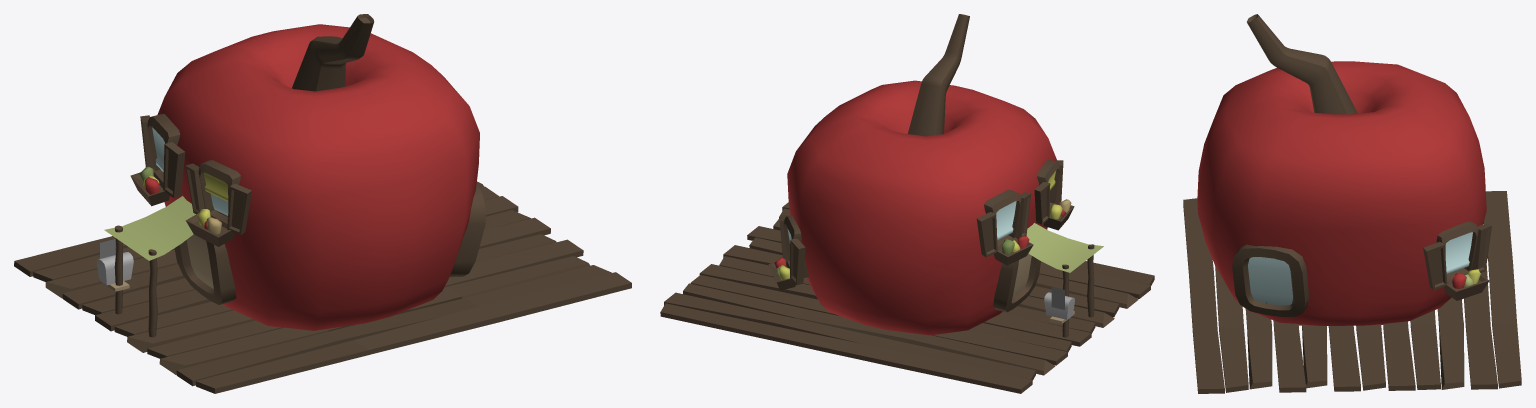
The model's file is Apple_House.fbx.
3 views of the same model, side by side, from view 1: azimuth 30°, elevation 25°; view 2: azimuth 150°, elevation 25°; view 3: azimuth 270°, elevation 25° (orthographic). The views are drawn at different scales.
Visible parts, largest first — view 1: polySurface416, apple_house_ground, polySurface417, polySurface447, polySurface418, polySurface463, polySurface435, polySurface421, polySurface437, polySurface419, polySurface424, polySurface439 (+4 smaller); view 2: polySurface416, apple_house_ground, polySurface417, polySurface447, polySurface418, polySurface422, polySurface419, polySurface461, polySurface438, polySurface420, polySurface435, polySurface424 (+4 smaller); view 3: polySurface416, apple_house_ground, polySurface463, polySurface417, polySurface462, polySurface460, polySurface459, polySurface461, polySurface451.
Boxes of the visible parts, box(x1,y1,x2,y2) form: polySurface416: box(157, 24, 479, 330); apple_house_ground: box(14, 181, 631, 393); polySurface417: box(292, 14, 374, 91); polySurface447: box(104, 196, 195, 260); polySurface418: box(174, 234, 236, 304); polySurface463: box(449, 182, 485, 277); polySurface435: box(198, 160, 240, 221); polySurface421: box(163, 142, 185, 197); polySurface437: box(227, 183, 251, 235); polySurface419: box(147, 114, 180, 179); polySurface424: box(97, 252, 133, 285); polySurface439: box(185, 213, 234, 246); polySurface416: box(787, 80, 1056, 335); apple_house_ground: box(660, 202, 1154, 393); polySurface417: box(908, 14, 969, 136); polySurface447: box(1026, 223, 1103, 272); polySurface418: box(993, 253, 1040, 312); polySurface422: box(976, 212, 997, 257); polySurface419: box(984, 190, 1021, 245); polySurface461: box(790, 238, 805, 285); polySurface438: box(1034, 182, 1050, 224); polySurface420: box(996, 201, 1016, 240); polySurface435: box(1035, 160, 1059, 217); polySurface424: box(1044, 292, 1074, 319); polySurface416: box(1197, 61, 1486, 325); apple_house_ground: box(1183, 191, 1521, 393); polySurface463: box(1232, 244, 1309, 316); polySurface417: box(1247, 14, 1357, 114); polySurface462: box(1423, 241, 1447, 290); polySurface460: box(1445, 232, 1472, 274); polySurface459: box(1436, 221, 1478, 279); polySurface461: box(1471, 223, 1491, 272); polySurface451: box(1444, 272, 1489, 300).
Size of the model in its own units: 10.39 by 6.91 by 7.64.
